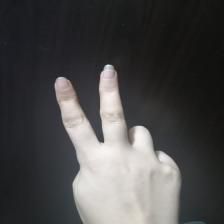two: (50, 61, 186, 216)
